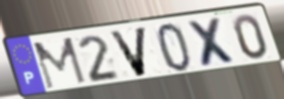0: (155, 21, 193, 74), (232, 12, 271, 62)
2: (78, 34, 123, 84)
M: (31, 35, 89, 92)
V: (107, 25, 150, 79)
X: (184, 15, 240, 69)
